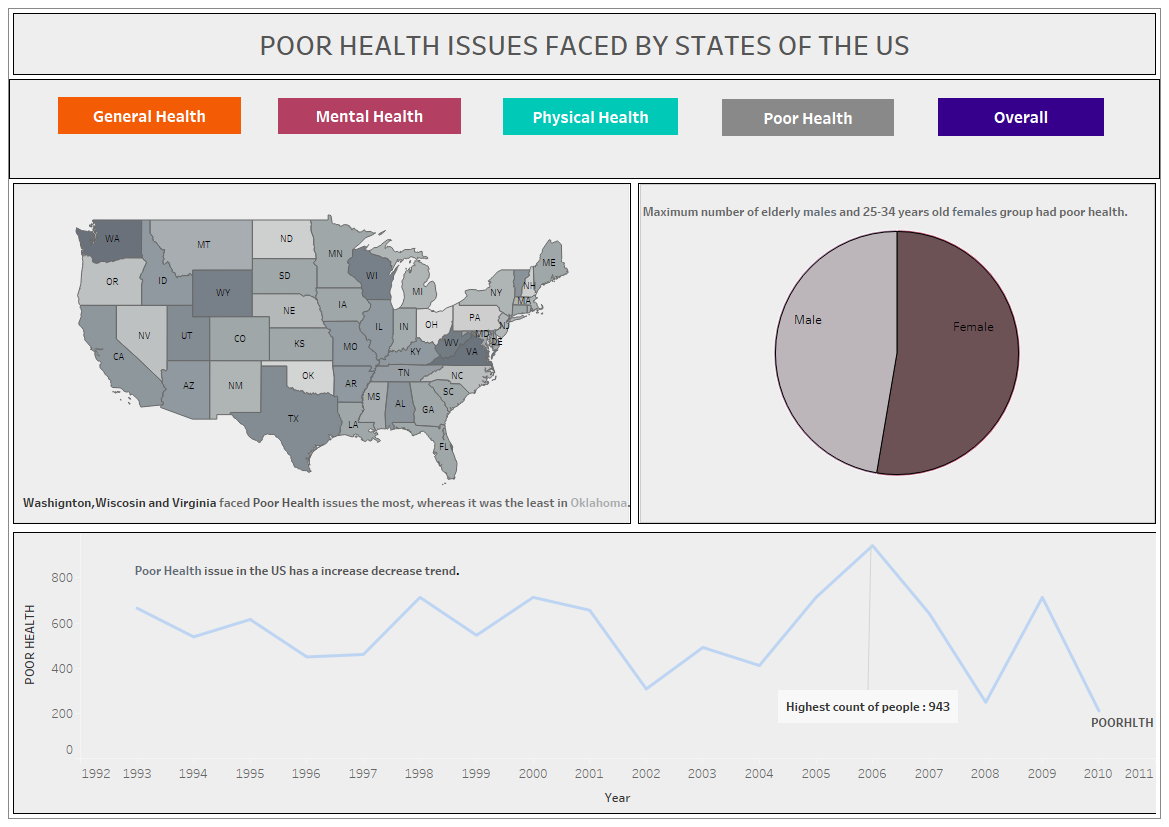

The dashboard page shown, as its layout file describes it:
{"tool":"tableau","page":{"name":"POORHLTH Dash Story","canvas":[1169,827],"ordinal":14},"visuals":[{"type":"text","box":[9,9,1151,70]},{"type":"dashboard-object","box":[58,97,183,37]},{"type":"dashboard-object","box":[278,98,183,36]},{"type":"dashboard-object","box":[503,98,175,37]},{"type":"dashboard-object","box":[938,98,166,38]},{"type":"dashboard-object","box":[722,99,172,37]},{"type":"worksheet","title":"Poor HLTH Map","mark":"Automatic","box":[9,179,625.5,349]},{"type":"worksheet","title":"PiePoorHlth","mark":"Pie","cols":["Calculation_1440588931308781577","Calculation_1440588931309305867"],"box":[634.5,179,525.5,349]},{"type":"text","box":[640,190,505,42]},{"type":"text","box":[20,468,616,69]},{"type":"worksheet","title":"POORHLTH","mark":"Automatic","rows":["Calculation_2714263200890437632"],"cols":["Year"],"box":[9,528,1151,290]},{"type":"text","box":[132,548,389,44]}]}

Visuals, with their boxes in screenshot pixels (x1, y1, x2, y2), scaled from the page's 1169x827 canvas onto the 1169x827 screenshot:
text: [x1=9, y1=9, x2=1160, y2=79]
dashboard-object: [x1=58, y1=97, x2=241, y2=134]
dashboard-object: [x1=278, y1=98, x2=461, y2=134]
dashboard-object: [x1=503, y1=98, x2=678, y2=135]
dashboard-object: [x1=938, y1=98, x2=1104, y2=136]
dashboard-object: [x1=722, y1=99, x2=894, y2=136]
"Poor HLTH Map" worksheet: [x1=9, y1=179, x2=634, y2=528]
"PiePoorHlth" worksheet (Pie marks): [x1=634, y1=179, x2=1160, y2=528]
text: [x1=640, y1=190, x2=1145, y2=232]
text: [x1=20, y1=468, x2=636, y2=537]
"POORHLTH" worksheet: [x1=9, y1=528, x2=1160, y2=818]
text: [x1=132, y1=548, x2=521, y2=592]
